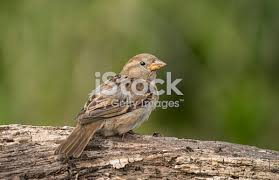hsparrow: (56, 49, 171, 174)
